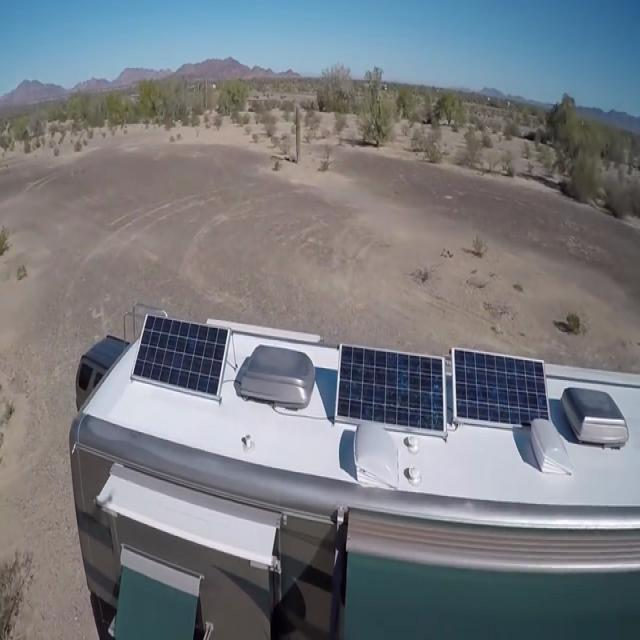Normal Solar Panel: (335, 345, 446, 433), (132, 315, 229, 397), (455, 349, 551, 422)
